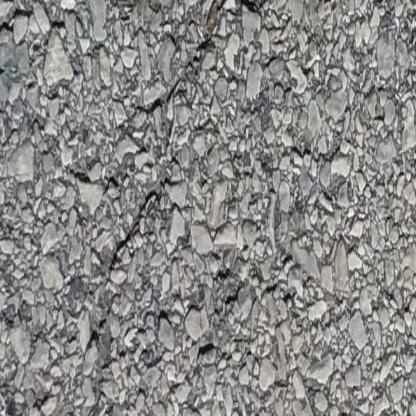Cracks: (335, 115, 416, 416)
